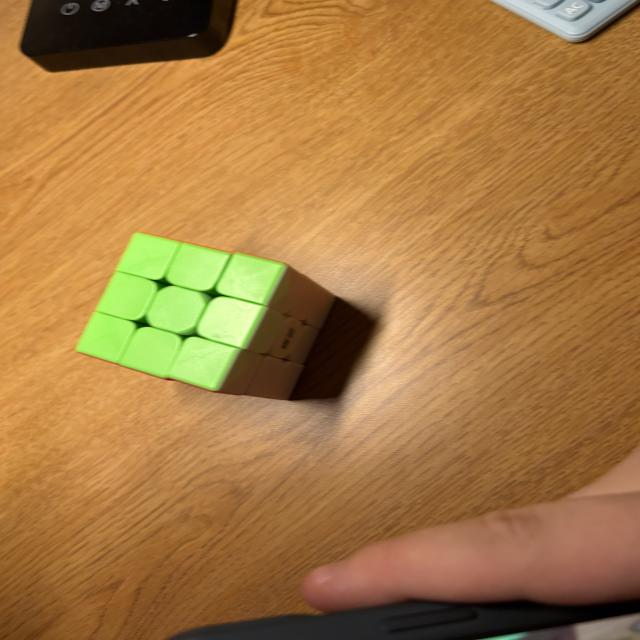Rubiks Cube: (75, 233, 339, 400)
